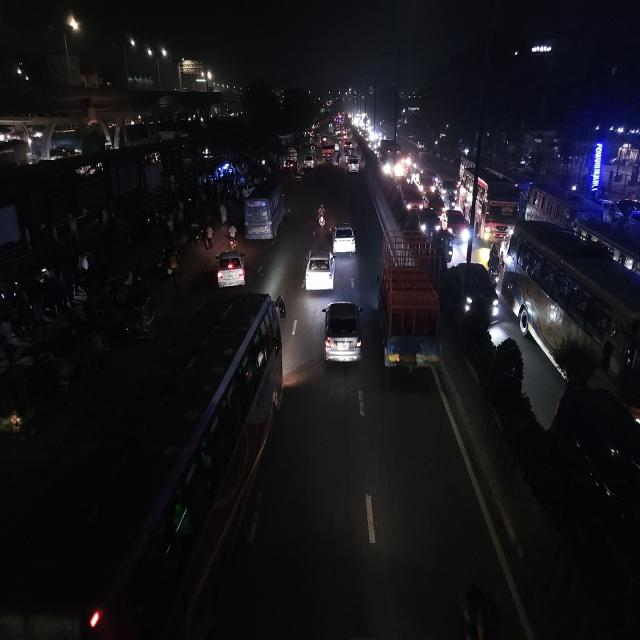bus: (69, 287, 284, 640), (503, 220, 640, 423), (460, 164, 522, 244), (243, 180, 289, 244), (378, 139, 404, 179)
car: (454, 258, 500, 328), (322, 298, 364, 371), (303, 248, 336, 297), (214, 248, 248, 289), (331, 221, 357, 260), (443, 206, 471, 242), (397, 182, 425, 214), (416, 205, 440, 236), (417, 171, 438, 195), (428, 190, 446, 215), (346, 153, 361, 175), (303, 153, 315, 170)
cng: (0, 353, 48, 444), (117, 281, 161, 343)
motorcycle: (225, 222, 239, 251), (314, 202, 328, 230)
pedestrian: (204, 222, 216, 250)
pickup_van: (377, 232, 443, 380)
truck: (321, 142, 335, 164)
